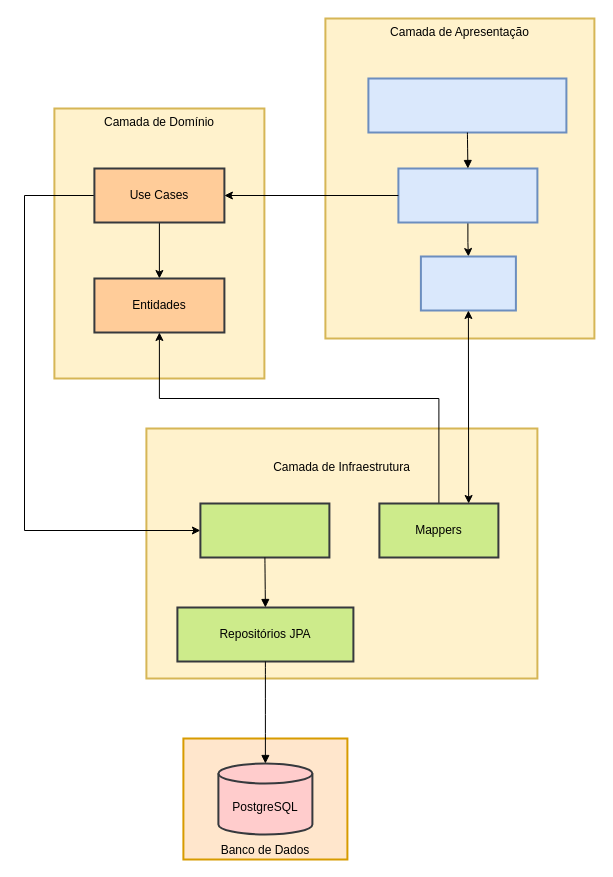
Some shapes in this 613 by 877 pixel diagram are drawn without their labels. Each missing label, with the centre of its shape:
Controllers: the point at 467,195
DTOs: the point at 467,283
Exception Handlers: the point at 467,105
Gateways: the point at 264,530
